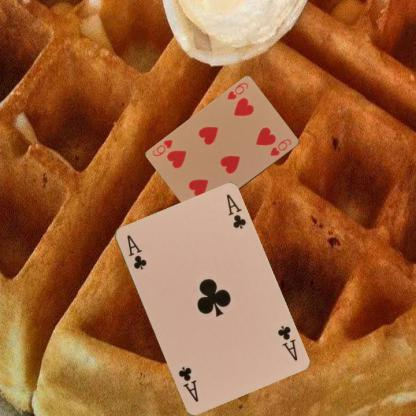6h: (224, 80, 249, 101)
Ac: (274, 322, 299, 362), (124, 232, 148, 272)
